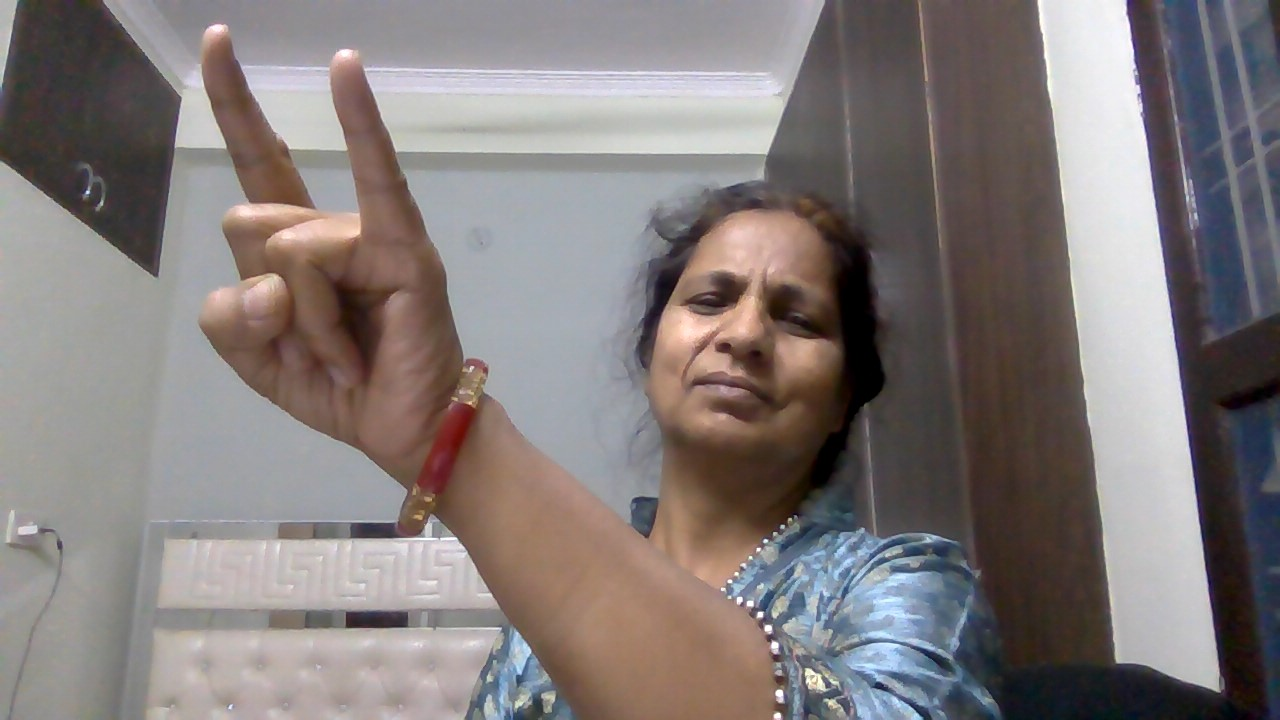Select All: (169, 14, 471, 467)
